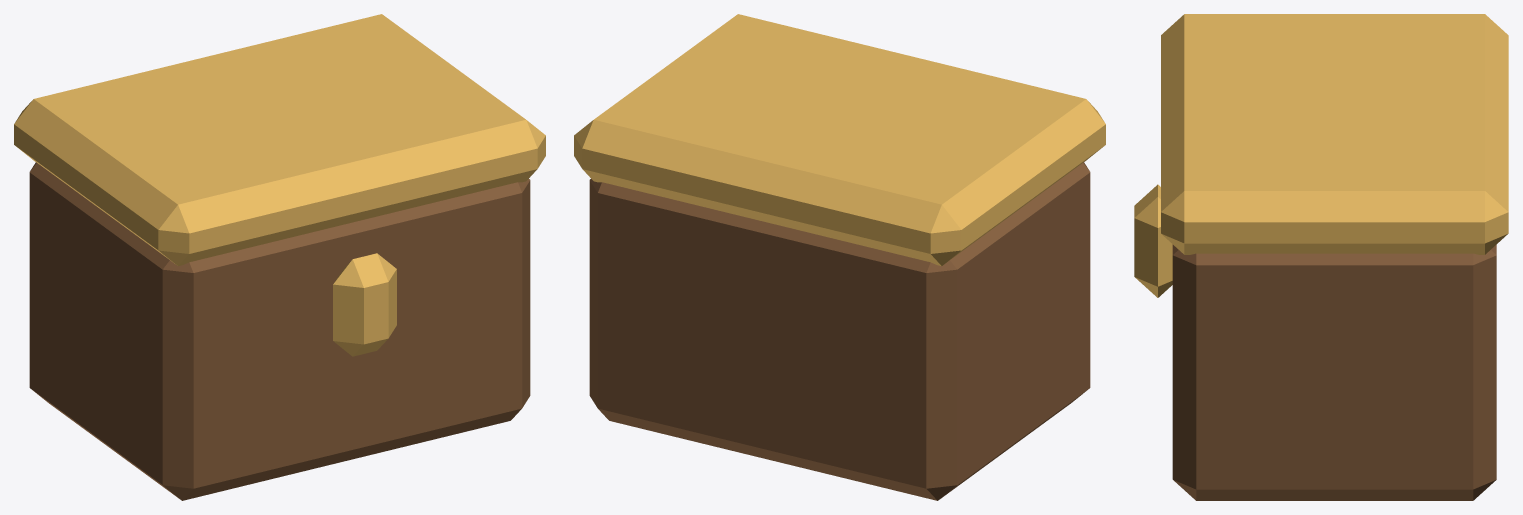
The model's file is treasure.glb.
The picture shows the model from 3 angles, left to right: view 1: azimuth 30°, elevation 25°; view 2: azimuth 150°, elevation 25°; view 3: azimuth 270°, elevation 25°; orthographic projection. The views are drawn at different scales.
Parts seen in each view (by area): view 1: treasure; view 2: treasure; view 3: treasure.
Boxes of the visible parts, <box> form: treasure: <box>14,14,545,500</box>; treasure: <box>574,14,1105,500</box>; treasure: <box>1134,14,1508,500</box>.
Bounding box in the file's own units: 0.79 × 0.59 × 0.635.
